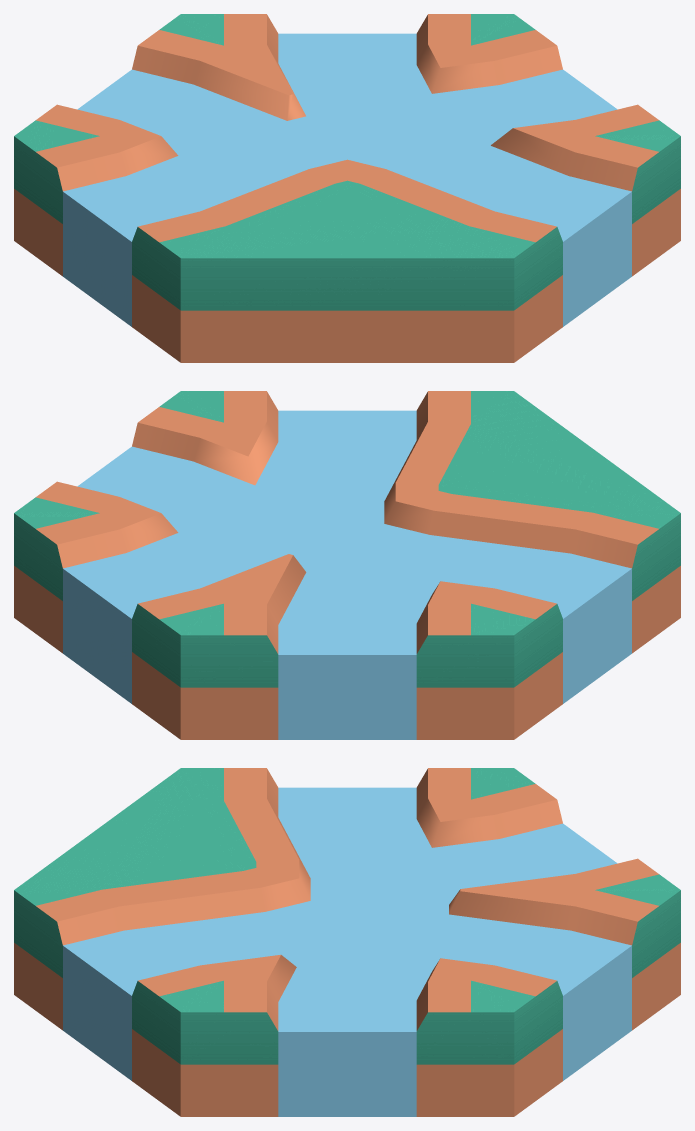
The model's file is river-intersectionG.glb.
3 views of the same model, one above another, from view 1: azimuth 30°, elevation 25°; view 2: azimuth 150°, elevation 25°; view 3: azimuth 270°, elevation 25° (orthographic).
Visible parts, largest first — view 1: river-intersectionG; view 2: river-intersectionG; view 3: river-intersectionG.
Boxes of the visible parts, bbox=[...] form: river-intersectionG: bbox=[14, 14, 680, 362]; river-intersectionG: bbox=[14, 391, 680, 739]; river-intersectionG: bbox=[14, 768, 680, 1116].
Size of the model in its own units: 10 by 2 by 11.55.
Materials: 1 (1 with a texture image).
